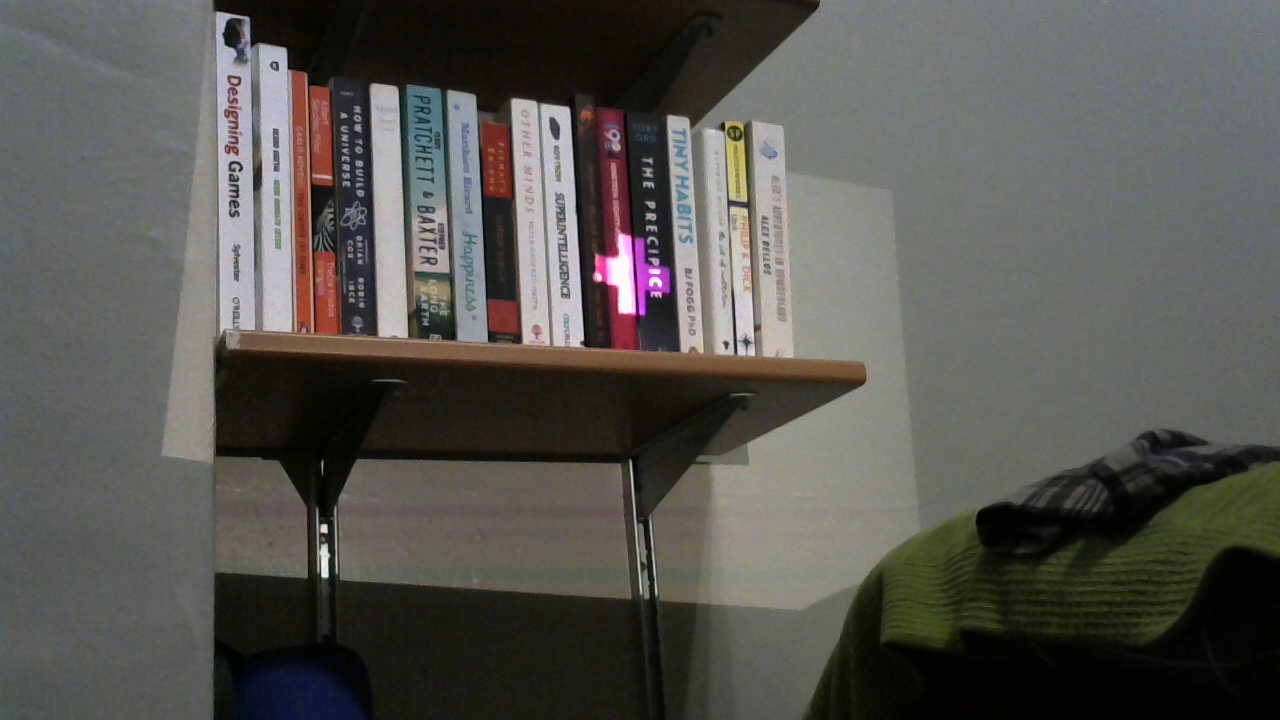calibration_symbol: (593, 233, 670, 316)
